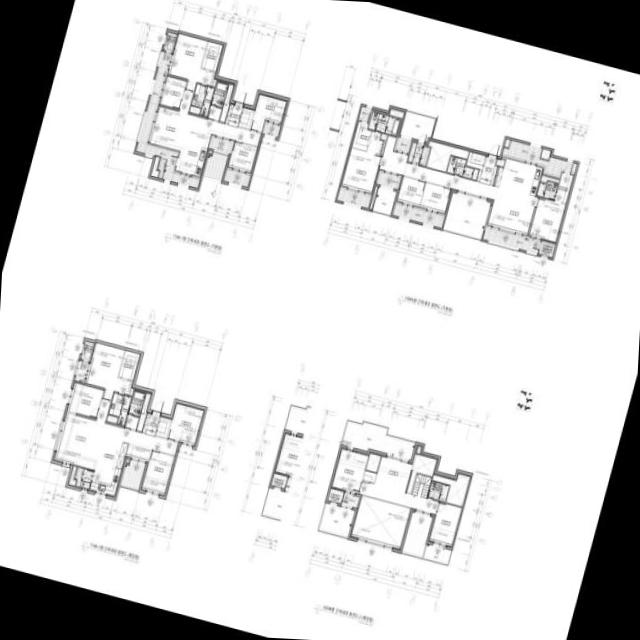background: (0, 0, 640, 640)
space_balconi: (136, 51, 199, 188), (342, 422, 415, 459), (502, 140, 577, 176), (443, 192, 490, 239), (482, 227, 540, 253), (392, 203, 444, 228), (319, 503, 355, 536), (400, 112, 435, 142), (336, 188, 371, 208), (120, 461, 144, 490), (203, 152, 227, 180), (372, 187, 396, 214), (408, 142, 430, 166), (424, 544, 450, 563), (223, 169, 250, 187), (74, 467, 93, 489), (377, 172, 399, 189), (210, 137, 231, 154), (74, 360, 88, 382), (341, 492, 359, 508), (395, 137, 411, 152), (263, 123, 280, 137), (358, 106, 371, 122)
space_bedroom: (168, 33, 215, 91), (85, 342, 132, 400), (341, 131, 383, 193), (529, 197, 565, 242), (332, 449, 368, 493), (167, 403, 204, 445), (141, 450, 175, 495), (429, 502, 461, 546), (250, 94, 287, 132), (67, 382, 103, 418), (228, 141, 257, 173), (420, 183, 450, 213), (159, 76, 186, 109), (397, 177, 425, 206)
space_dressroom: (118, 350, 140, 380), (201, 41, 223, 71), (554, 172, 573, 204), (352, 121, 371, 150)
space_front: (476, 156, 497, 185), (142, 413, 160, 436), (225, 103, 242, 127)
space_kitchen: (89, 437, 128, 495), (494, 157, 542, 196), (175, 129, 210, 176)
space_living_room: (379, 135, 537, 235), (54, 399, 178, 470), (147, 89, 261, 152), (359, 456, 438, 514)
space_other: (351, 495, 410, 549), (426, 141, 469, 172), (402, 512, 432, 556), (432, 474, 469, 506), (407, 454, 436, 493), (136, 393, 151, 431), (219, 84, 234, 122), (411, 473, 432, 498), (125, 443, 151, 462), (238, 107, 254, 129), (155, 417, 171, 438), (466, 152, 485, 169), (365, 453, 380, 472), (207, 106, 221, 121), (124, 415, 138, 430), (369, 186, 377, 210), (150, 156, 159, 177), (68, 466, 76, 486), (363, 471, 376, 483), (540, 175, 559, 183), (380, 134, 387, 154), (389, 109, 403, 118), (540, 149, 550, 160), (189, 106, 200, 114), (496, 159, 505, 167), (472, 169, 478, 180), (504, 140, 510, 147), (212, 78, 216, 87), (416, 446, 421, 453), (129, 388, 133, 396), (126, 459, 129, 463), (209, 150, 212, 154)
space_outdoor_room: (163, 32, 177, 52), (80, 341, 94, 361), (538, 241, 555, 257), (327, 488, 343, 503)
space_toilet: (106, 393, 131, 425), (368, 112, 400, 136), (191, 84, 214, 116), (446, 156, 473, 178), (211, 81, 228, 107), (128, 390, 145, 416), (536, 181, 558, 200), (428, 482, 449, 501)
